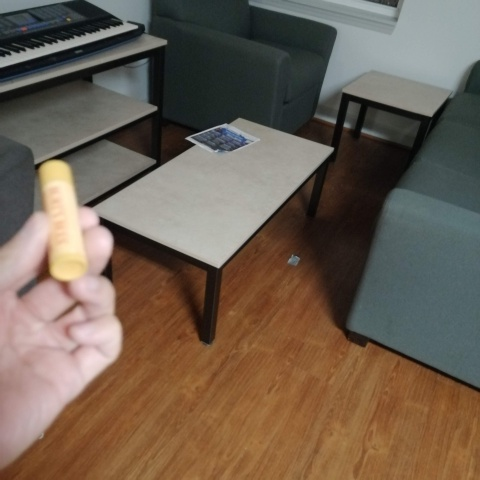chapstick: (36, 156, 89, 284)
